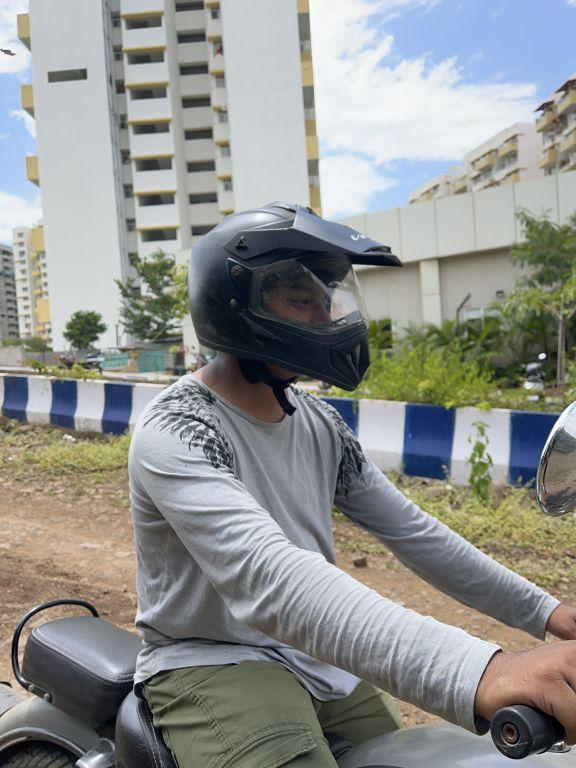helmet: (177, 195, 413, 402)
